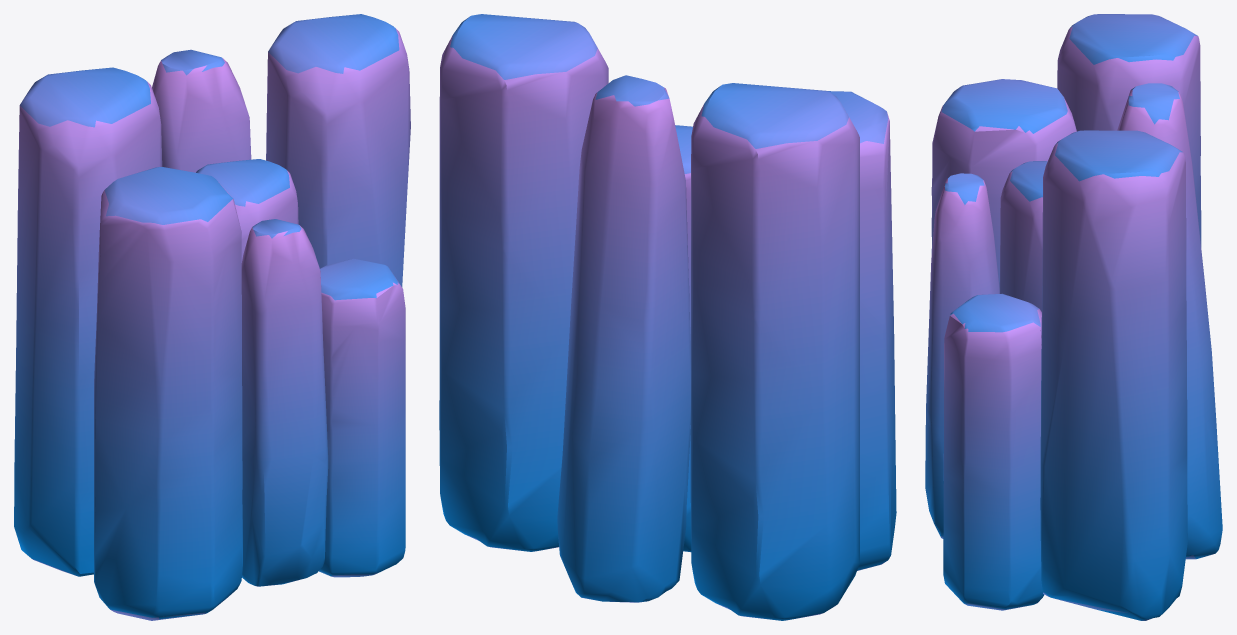
File: SM_crystal_flat_group_02.glb
3 renders of one model, left to right at view 1: azimuth 30°, elevation 25°; view 2: azimuth 150°, elevation 25°; view 3: azimuth 270°, elevation 25°, orthographic. The views are drawn at different scales.
Visible parts, largest first — view 1: SM_crystal_flat_group_02; view 2: SM_crystal_flat_group_02; view 3: SM_crystal_flat_group_02.
Part boxes in pixels (left/top/right/bottom): SM_crystal_flat_group_02: left=14, top=14, right=410, bottom=620; SM_crystal_flat_group_02: left=439, top=14, right=896, bottom=620; SM_crystal_flat_group_02: left=925, top=14, right=1222, bottom=620.
Bounding box in the file's own units: 3.7 × 4.4 × 2.53.
1 material, 1 textured.
